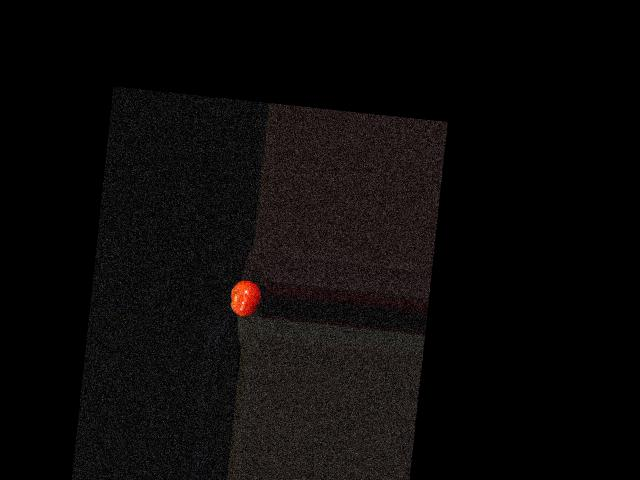tomato: (228, 278, 263, 318)
